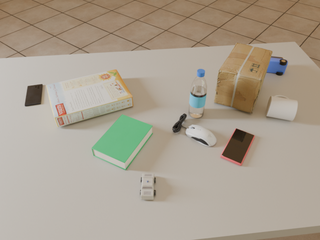book: (92, 114, 153, 170)
bottle: (189, 69, 207, 118)
box: (46, 70, 133, 127), (214, 43, 272, 113)
cup: (266, 95, 298, 121)
mouse: (186, 125, 217, 146)
phone: (220, 129, 255, 166), (25, 84, 43, 106)
toy_car: (140, 174, 156, 200), (267, 56, 288, 75)
